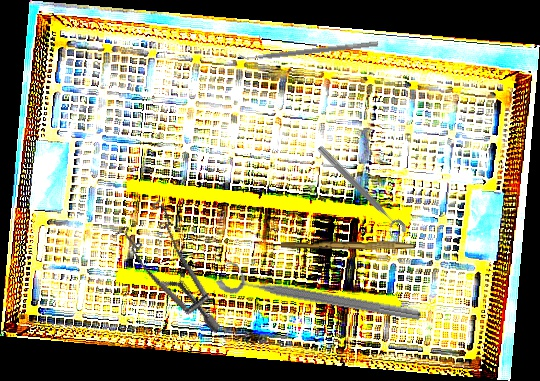Fixation Ring: (213, 258, 425, 327), (310, 143, 409, 242)
Scalpel Handle: (280, 238, 416, 252)
Spatula Surgical: (237, 35, 379, 64)
Speculum: (94, 187, 262, 336)
